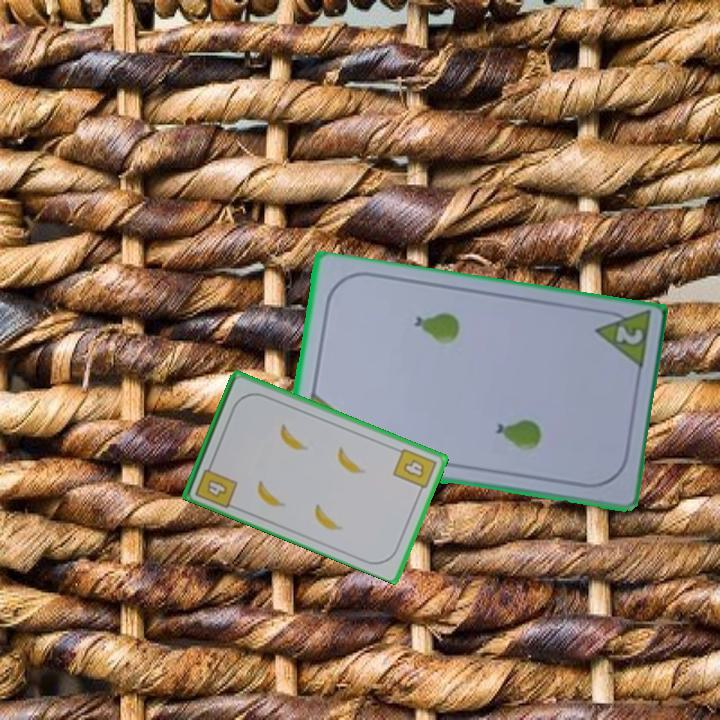2p: (590, 306, 654, 376)
4b: (389, 445, 439, 497), (192, 457, 240, 511)
